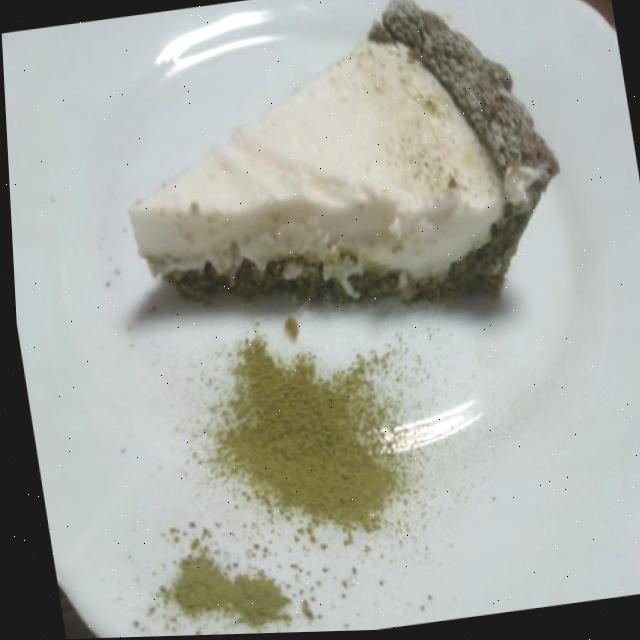豆腐料理: (77, 0, 604, 609)
